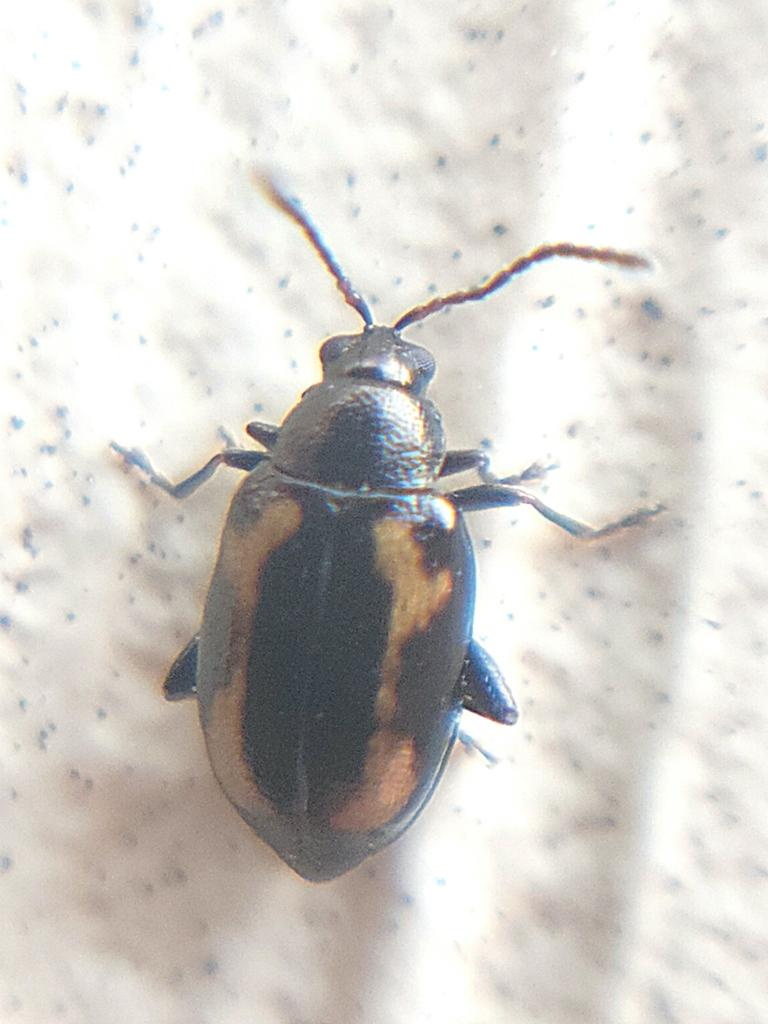flea_beetle: (0, 100, 768, 982)
